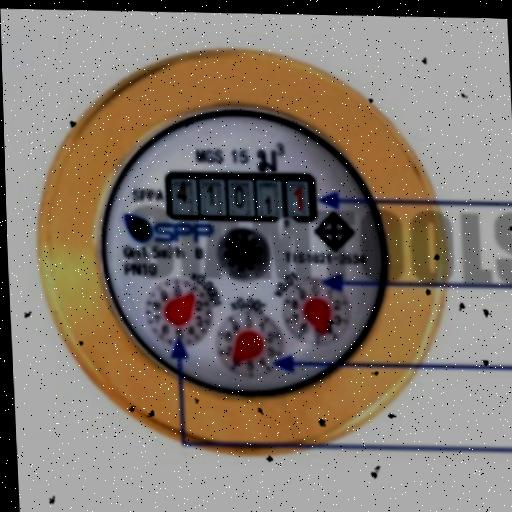0: (231, 183, 250, 216)
1: (203, 183, 220, 216), (261, 184, 278, 217), (291, 185, 308, 216)
4: (174, 183, 193, 215)
border_water_meter_number: (165, 168, 318, 226)
